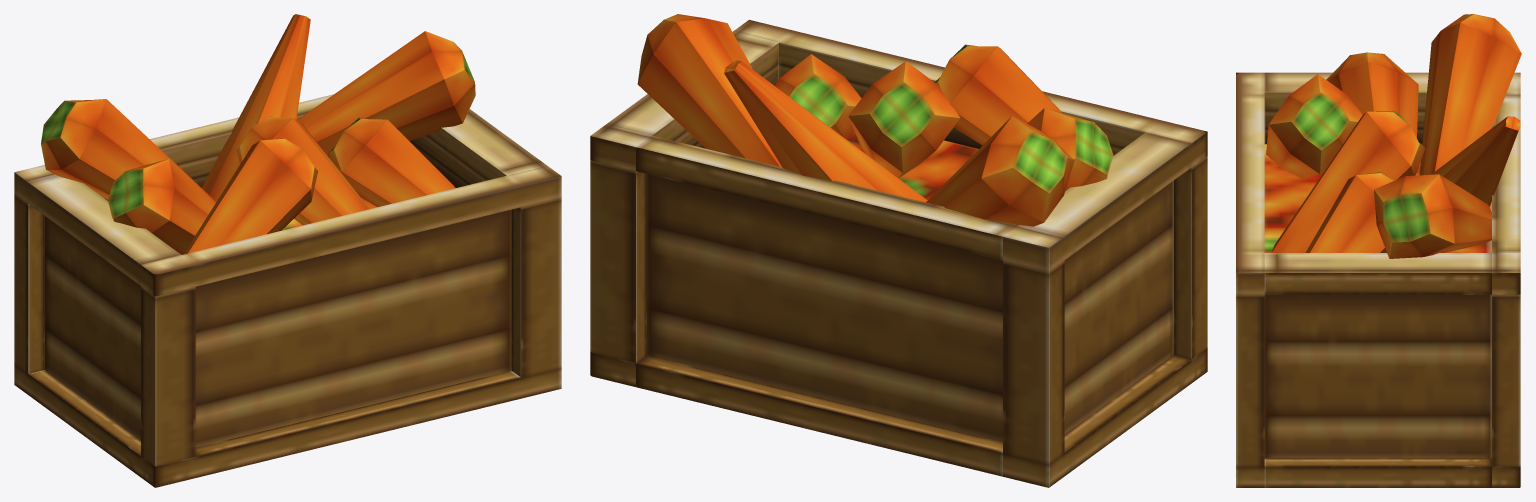
The model's file is Inside_Poly_Crate_05.obj.
3 renders of one model, left to right at view 1: azimuth 30°, elevation 25°; view 2: azimuth 150°, elevation 25°; view 3: azimuth 270°, elevation 25°, orthographic. The views are drawn at different scales.
Parts seen in each view (by area): view 1: Cube, Cube.002, Cube.005, Cube.003, Cube.007, Cube.004, Cube.006, Cube.001; view 2: Cube, Cube.002, Cube.003, Cube.006, Cube.001, Cube.005, Cube.007, Cube.004; view 3: Cube, Cube.003, Cube.002, Cube.001, Cube.005, Cube.004, Cube.007, Cube.006.
Boxes of the visible parts, <box> form: Cube: <box>14,94,561,487</box>; Cube.002: <box>297,31,475,156</box>; Cube.005: <box>183,138,317,254</box>; Cube.003: <box>41,99,216,202</box>; Cube.007: <box>327,117,455,207</box>; Cube.004: <box>108,159,215,254</box>; Cube.006: <box>202,14,310,201</box>; Cube.001: <box>236,116,369,225</box>; Cube: <box>590,19,1207,487</box>; Cube.002: <box>637,14,781,167</box>; Cube.003: <box>926,116,1074,226</box>; Cube.006: <box>724,60,927,202</box>; Cube.001: <box>848,61,960,178</box>; Cube.005: <box>934,44,1062,145</box>; Cube.007: <box>774,54,861,140</box>; Cube.004: <box>1027,108,1113,190</box>; Cube: <box>1236,72,1520,487</box>; Cube.003: <box>1419,14,1521,175</box>; Cube.002: <box>1374,174,1491,258</box>; Cube.001: <box>1271,111,1425,252</box>; Cube.005: <box>1266,74,1362,178</box>; Cube.004: <box>1326,52,1418,137</box>; Cube.007: <box>1305,172,1394,252</box>; Cube.006: <box>1431,116,1520,206</box>.
Size of the model in its own units: 1 by 0.7183 by 0.6027.
1 material, 1 textured.
